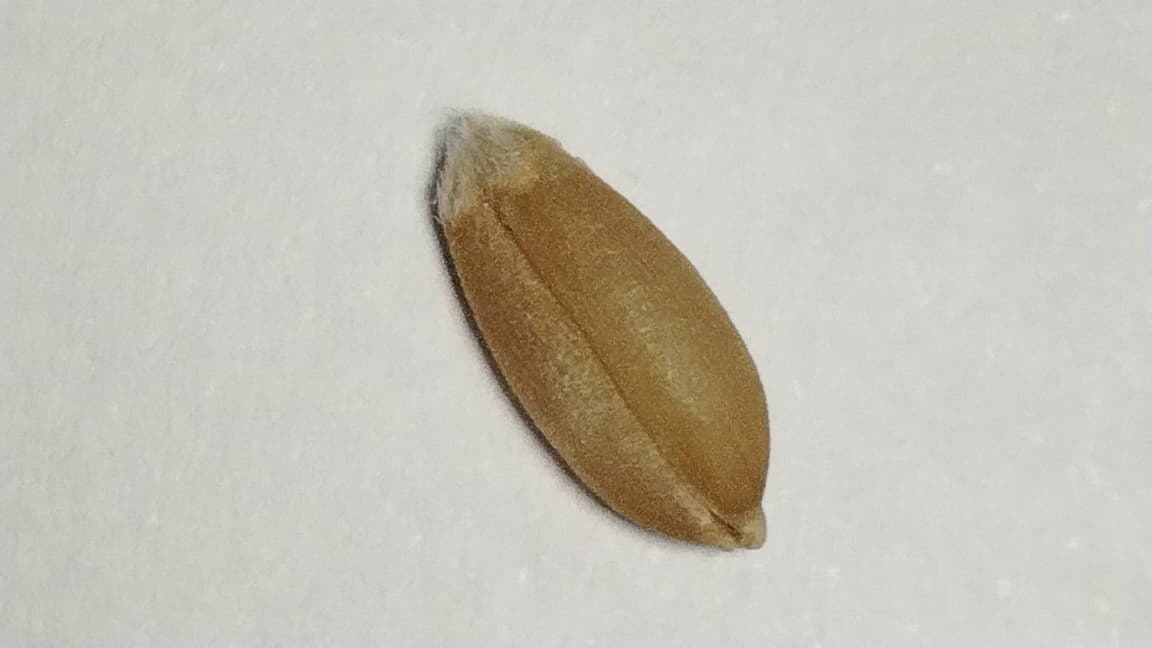healthy: (437, 114, 768, 547)
